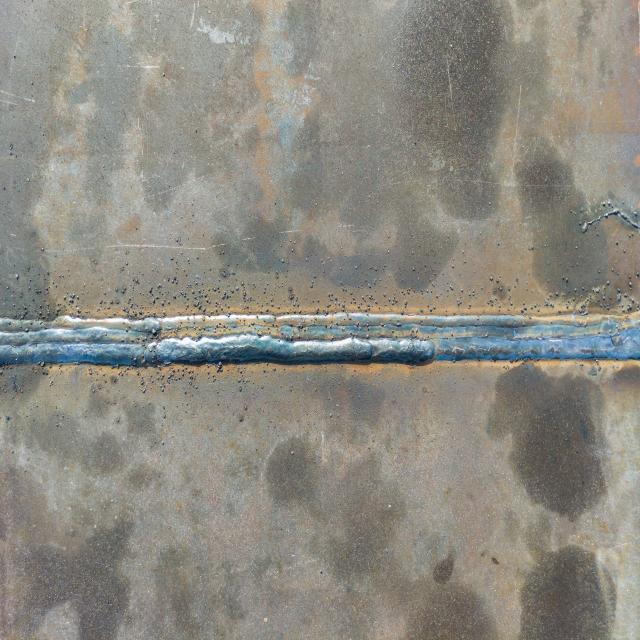Bad Weld: (2, 310, 640, 369)
Defect: (125, 326, 181, 344), (261, 319, 313, 338), (194, 320, 227, 338)
